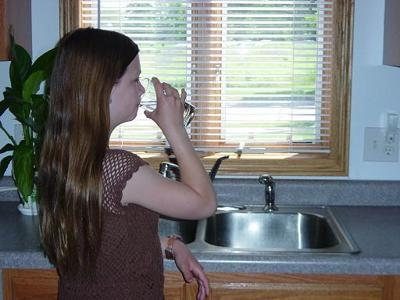person: (38, 27, 220, 299)
